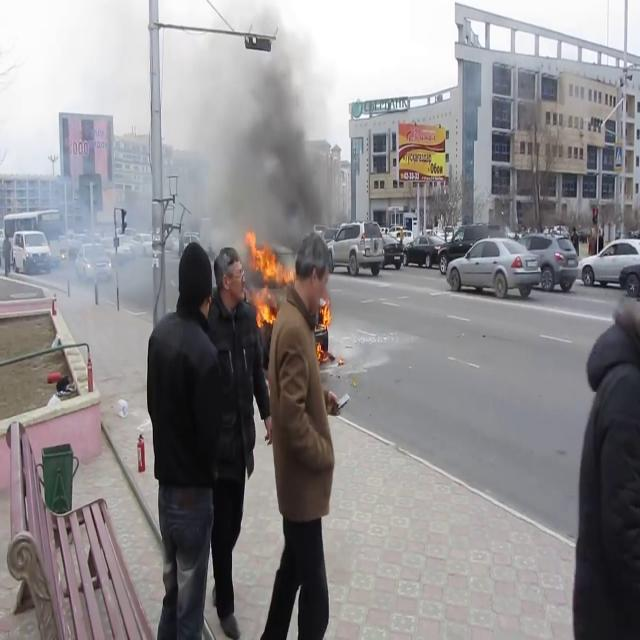Fire: (244, 235, 292, 324), (318, 297, 333, 351)
Smoke: (212, 17, 336, 249)
